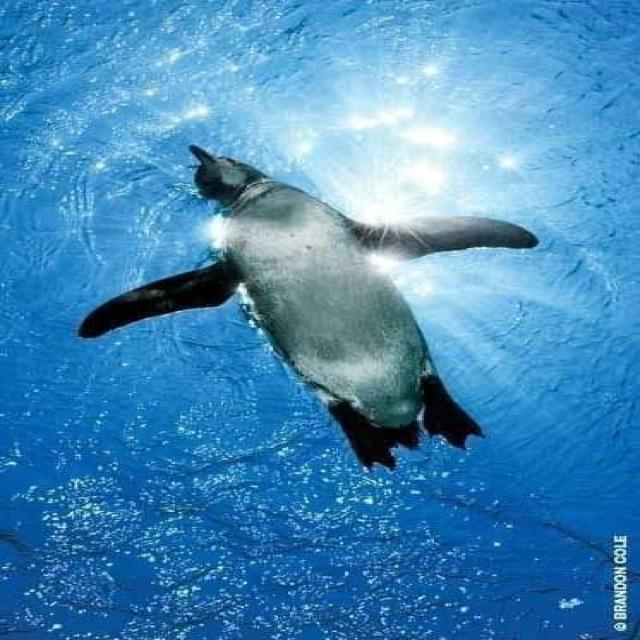Penguins: (163, 133, 490, 464)
